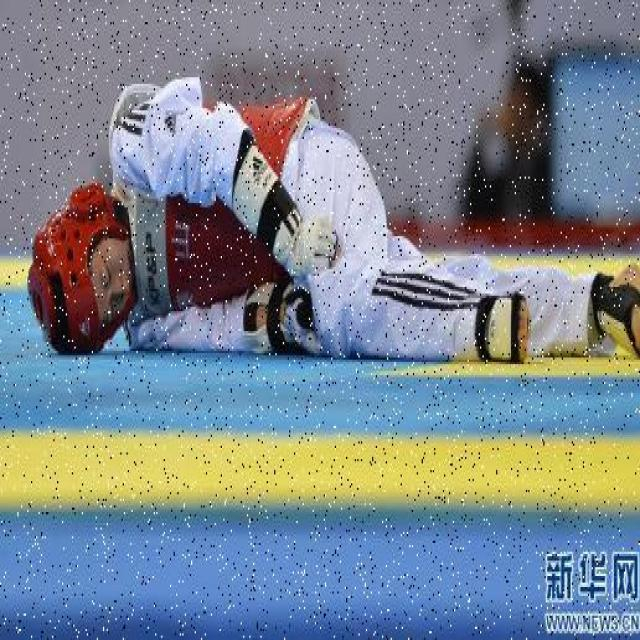fall: (29, 69, 638, 372)
